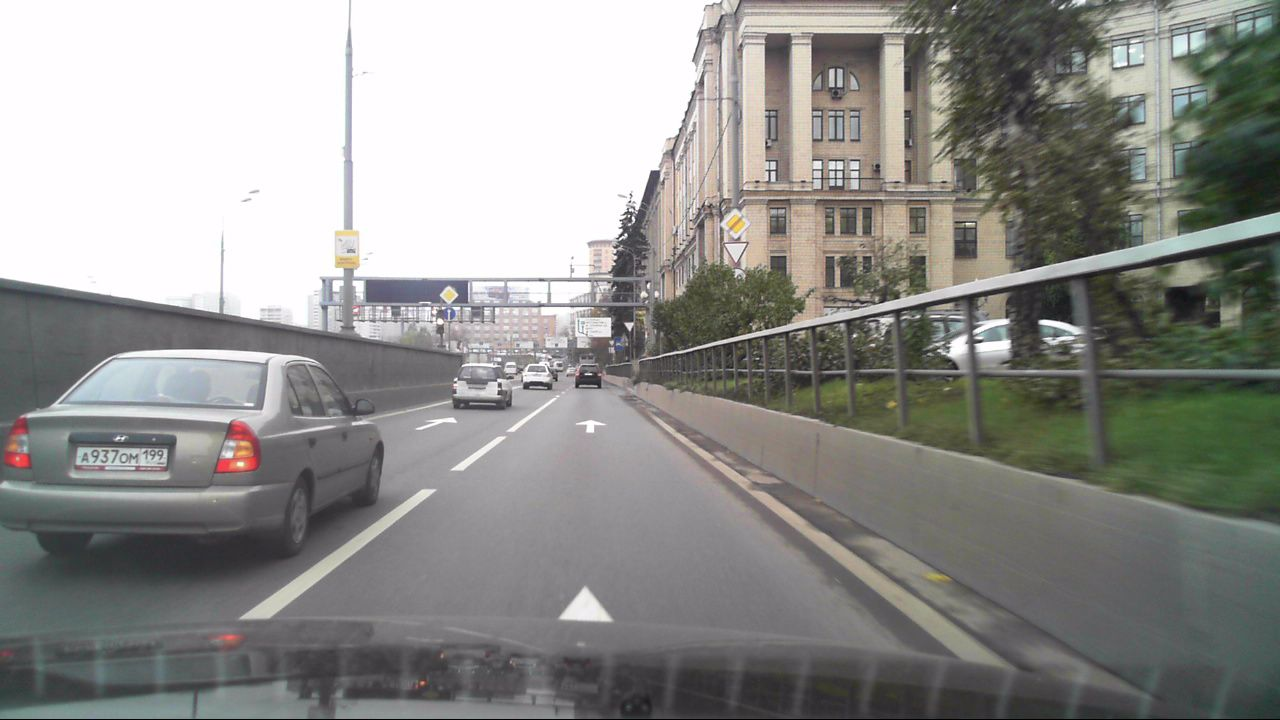main road: (720, 208, 749, 239)
